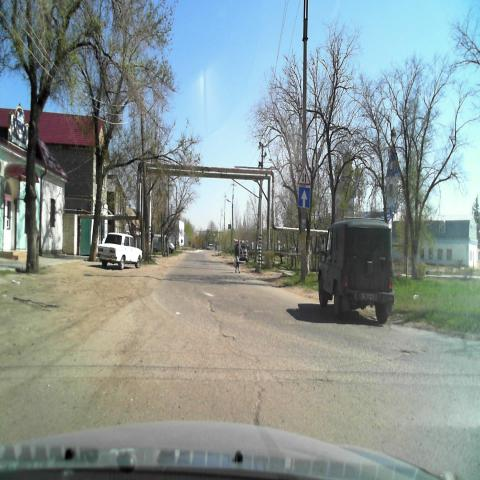1_21: (295, 164, 311, 184)
